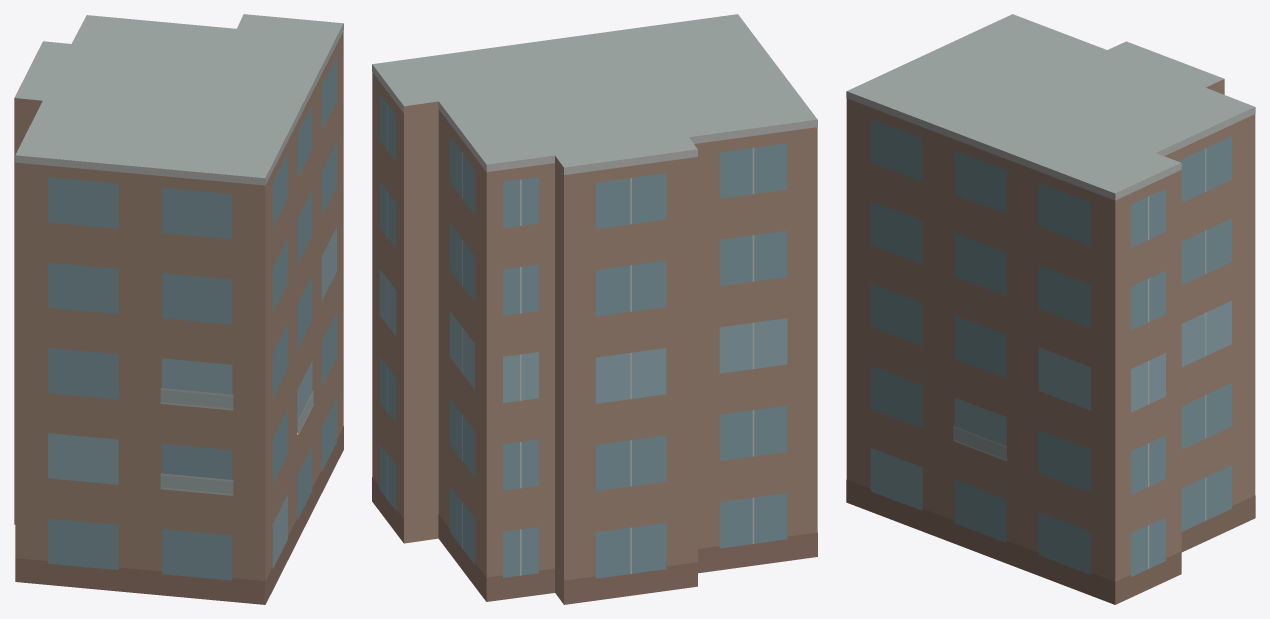
The model's file is survey-upis-32712321.glb.
3 renders of one model, left to right at view 1: azimuth 30°, elevation 25°; view 2: azimuth 150°, elevation 25°; view 3: azimuth 270°, elevation 25°, orthographic. The views are drawn at different scales.
Visible parts, largest first — view 1: survey-upis-32712321.tmp; view 2: survey-upis-32712321.tmp; view 3: survey-upis-32712321.tmp.
Boxes of the visible parts, bbox=[...] form: survey-upis-32712321.tmp: bbox=[14, 14, 343, 604]; survey-upis-32712321.tmp: bbox=[372, 14, 817, 604]; survey-upis-32712321.tmp: bbox=[846, 14, 1255, 604].
Size of the model in its own units: 13.4 by 14.3 by 12.89.
